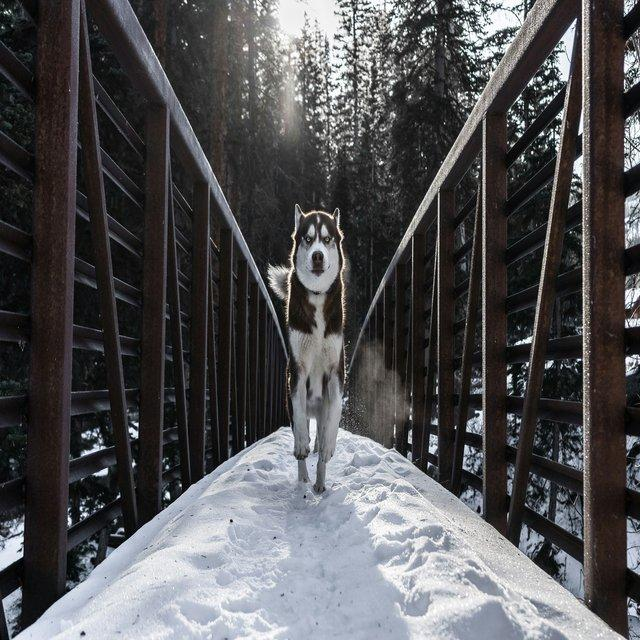husky: (265, 202, 350, 495)
